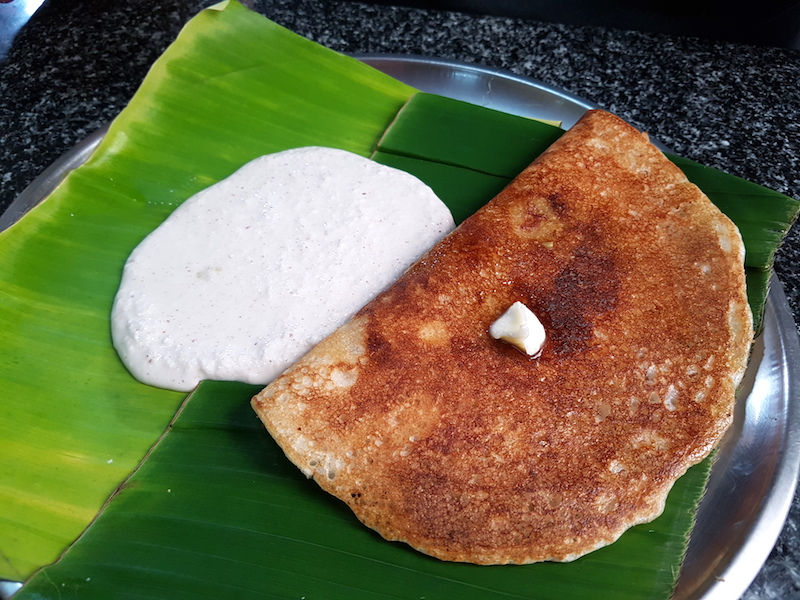dosa: (247, 104, 762, 569)
